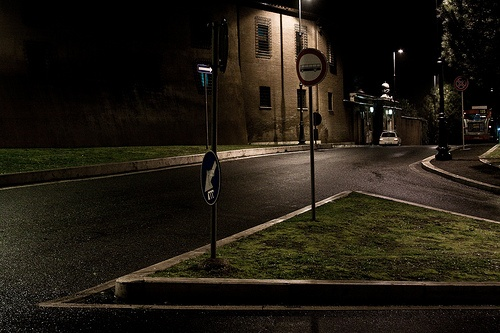stop sign: (296, 48, 500, 135)
traffic light: (219, 19, 447, 92)
